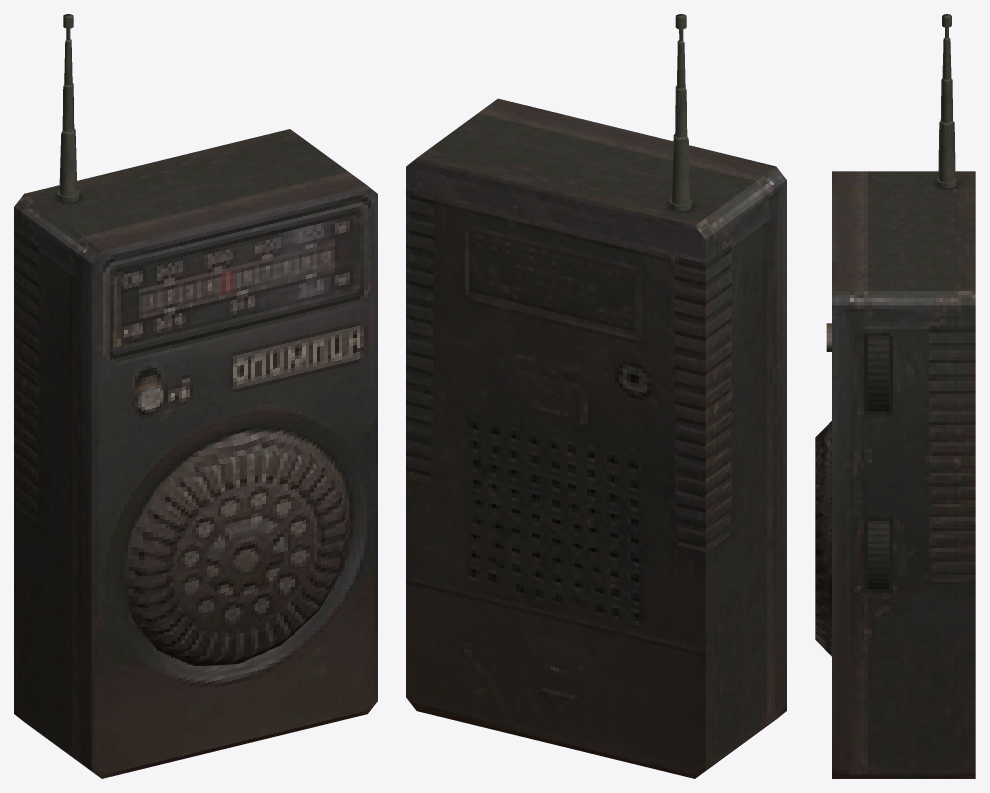
Rendered from handheld_fm_radio_etx_1.glb.
The picture shows the model from 3 angles, left to right: view 1: azimuth 30°, elevation 25°; view 2: azimuth 150°, elevation 25°; view 3: azimuth 270°, elevation 25°; orthographic projection. The views are drawn at different scales.
Parts seen in each view (by area): view 1: handheld_fm_radio_etx_1; view 2: handheld_fm_radio_etx_1; view 3: handheld_fm_radio_etx_1.
Part boxes in pixels (bbox=[...]): handheld_fm_radio_etx_1: bbox=[14, 14, 377, 778]; handheld_fm_radio_etx_1: bbox=[406, 14, 786, 778]; handheld_fm_radio_etx_1: bbox=[815, 14, 975, 778].
Bounding box in the file's own units: 0.177 × 0.4033 × 0.0894.
1 material, 1 textured.
